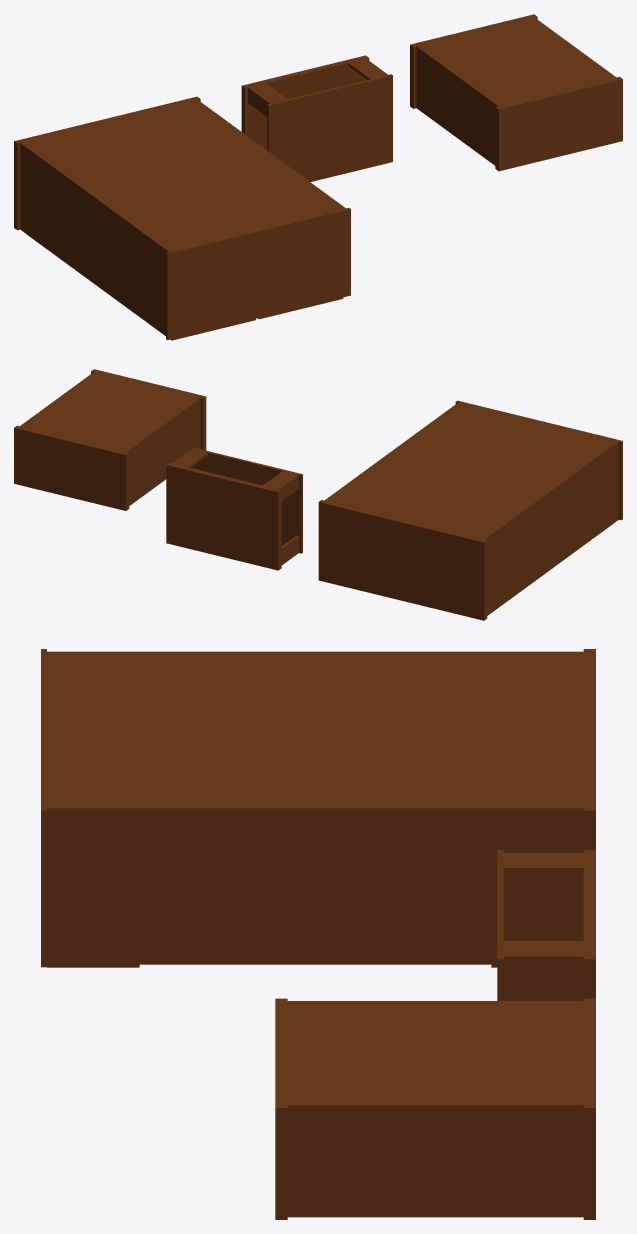
The model's file is MUEBLE fbx.fbx.
3 renders of one model, top to bottom at view 1: azimuth 30°, elevation 25°; view 2: azimuth 150°, elevation 25°; view 3: azimuth 270°, elevation 25°, orthographic. The views are drawn at different scales.
Parts seen in each view (by area): view 1: Group2, Group18, Group15, Group16, Group11, Group13; view 2: Group2, Group18, Group16, Group15, Group11, Group13, Group12; view 3: Group2, Group18, Group13, Group11, Group16, Group12, Group15.
Part boxes in pixels (box(x1,y1,x2,y2)): Group2: box(14, 96, 350, 340); Group18: box(410, 14, 622, 171); Group15: box(267, 74, 392, 181); Group16: box(241, 55, 369, 150); Group11: box(248, 83, 287, 116); Group13: box(348, 58, 387, 79); Group2: box(318, 400, 622, 620); Group18: box(14, 369, 206, 510); Group16: box(166, 463, 281, 570); Group15: box(189, 447, 302, 553); Group11: box(263, 471, 298, 500); Group13: box(172, 448, 207, 467); Group12: box(281, 535, 298, 565); Group2: box(41, 649, 595, 967); Group18: box(275, 998, 595, 1219); Group13: box(503, 941, 583, 984); Group11: box(503, 852, 583, 882); Group16: box(583, 850, 595, 998); Group12: box(503, 984, 583, 1000); Group15: box(497, 850, 503, 1000).
Size of the model in its own units: 3.52 by 0.596 by 1.8.
